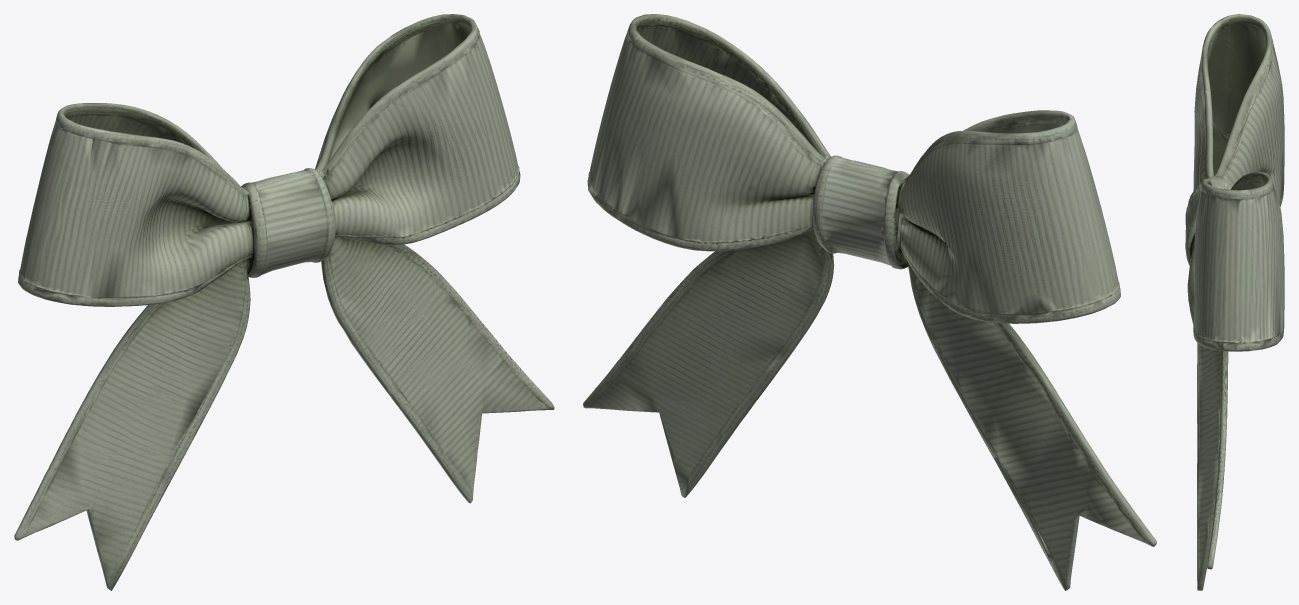
File: fl-ribbon-rep-bow.glb
3 renders of one model, left to right at view 1: azimuth 30°, elevation 25°; view 2: azimuth 150°, elevation 25°; view 3: azimuth 270°, elevation 25°, orthographic. The views are drawn at different scales.
Visible parts, largest first — view 1: node_0; view 2: node_0; view 3: node_0.
Part boxes in pixels (left/top/right/bottom): node_0: left=14, top=14, right=554, bottom=590; node_0: left=583, top=14, right=1156, bottom=590; node_0: left=1185, top=14, right=1284, bottom=590.
Bounding box in the file's own units: 1.04 × 0.8489 × 0.1861.
Materials: 1 (1 with a texture image).
